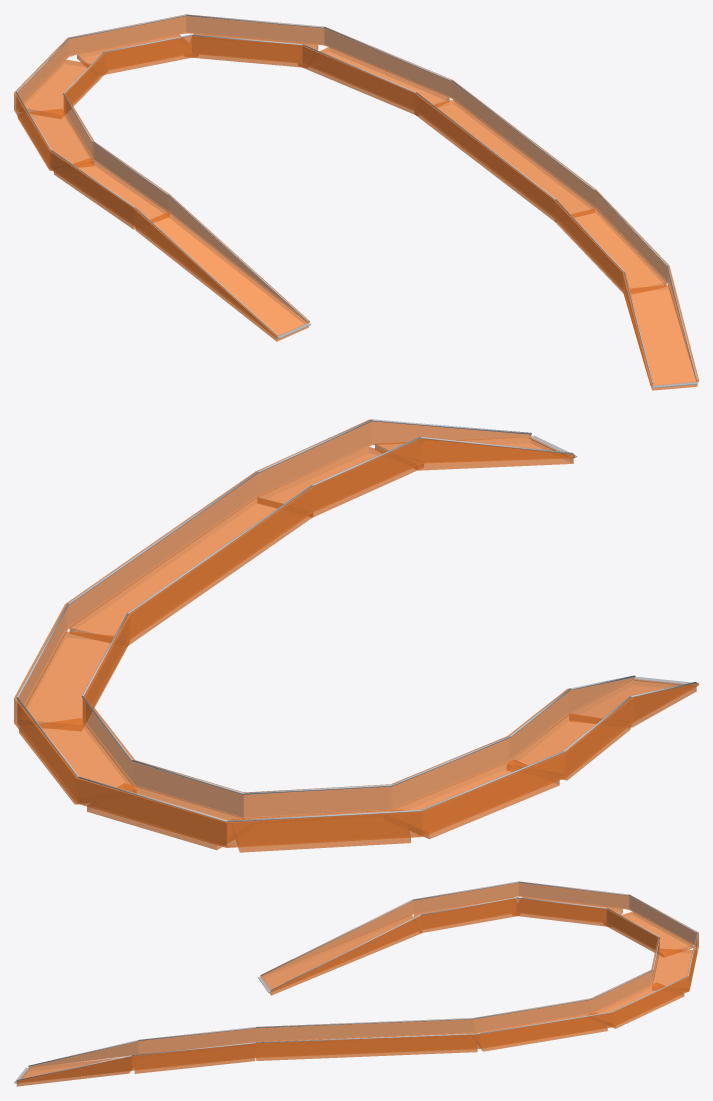
Rendered from Rodent_Wire.glb.
3 views of the same model, one above another, from view 1: azimuth 30°, elevation 25°; view 2: azimuth 150°, elevation 25°; view 3: azimuth 270°, elevation 25° (orthographic). The views are drawn at different scales.
Visible parts, largest first — view 1: Ramp_wire, Deco_RampEdgeBeads; view 2: Ramp_wire, Deco_RampEdgeBeads; view 3: Ramp_wire, Deco_RampEdgeBeads.
Boxes of the visible parts, bbox=[...] form: Ramp_wire: bbox=[14, 14, 698, 390]; Deco_RampEdgeBeads: bbox=[15, 14, 697, 383]; Ramp_wire: bbox=[14, 419, 698, 852]; Deco_RampEdgeBeads: bbox=[16, 419, 696, 822]; Ramp_wire: bbox=[16, 881, 698, 1086]; Deco_RampEdgeBeads: bbox=[16, 881, 697, 1081].
Size of the model in its own units: 0.4984 by 0.1123 by 0.9531.
